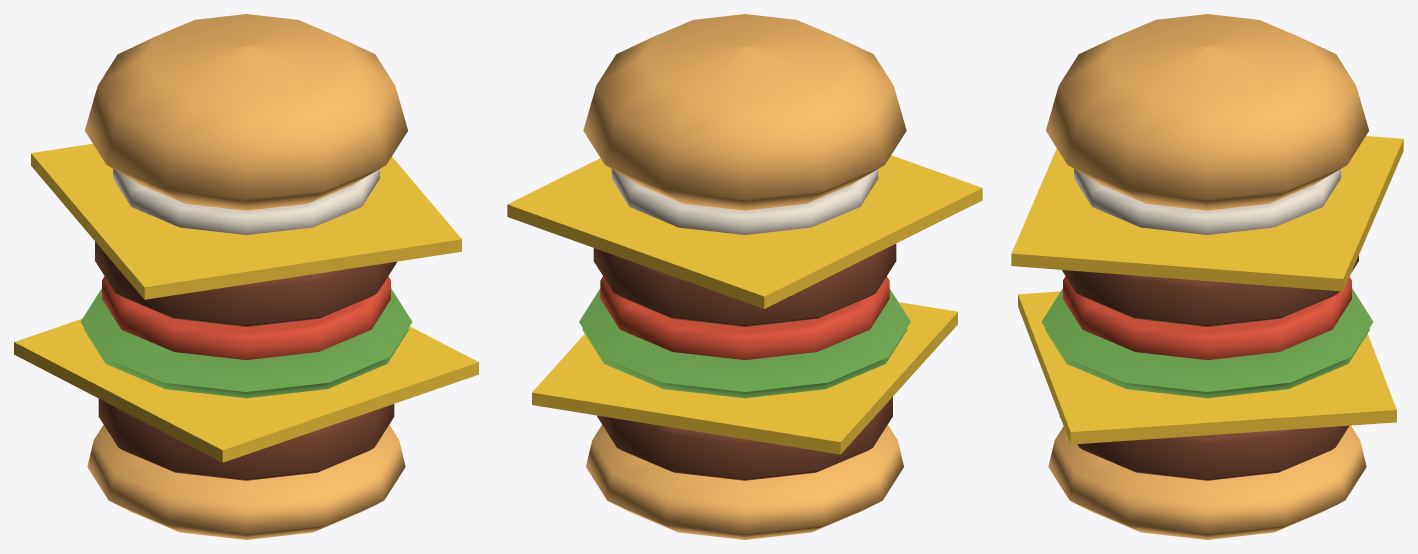
Rendered from burger-low.glb.
3 renders of one model, left to right at view 1: azimuth 30°, elevation 25°; view 2: azimuth 150°, elevation 25°; view 3: azimuth 270°, elevation 25°, orthographic.
Parts seen in each view (by area): view 1: top-bun, cheese-top, cheese-bottom, bottom-bun, lettuce, patty-bottom, patty-top, tomato, onion; view 2: top-bun, cheese-top, cheese-bottom, bottom-bun, lettuce, patty-top, tomato, patty-bottom, onion; view 3: top-bun, cheese-top, cheese-bottom, bottom-bun, lettuce, tomato, patty-top, patty-bottom, onion.
Boxes of the visible parts, x1,y1,x2,y2 form: top-bun: (85,14,407,210); cheese-top: (31,143,461,299); cheese-bottom: (14,319,478,462); bottom-bun: (87,424,405,539); lettuce: (80,288,412,398); patty-bottom: (98,399,394,480); patty-top: (95,241,396,326); tomato: (102,276,390,360); onion: (113,169,379,234); top-bun: (583,14,906,210); cheese-top: (507,155,982,308); cheese-bottom: (532,302,957,454); bottom-bun: (586,425,903,539); lettuce: (579,288,910,398); patty-top: (593,244,896,326); tomato: (600,276,889,359); patty-bottom: (597,397,892,480); onion: (611,169,878,234); top-bun: (1046,14,1368,210); cheese-top: (1011,136,1403,291); cheese-bottom: (1018,291,1396,444); bottom-bun: (1048,425,1366,539); lettuce: (1041,288,1373,398); tomato: (1063,276,1351,360); patty-top: (1062,255,1358,326); patty-bottom: (1059,416,1348,480); onion: (1074,169,1340,234).
Size of the model in its own units: 2.28 by 2.81 by 2.28.
